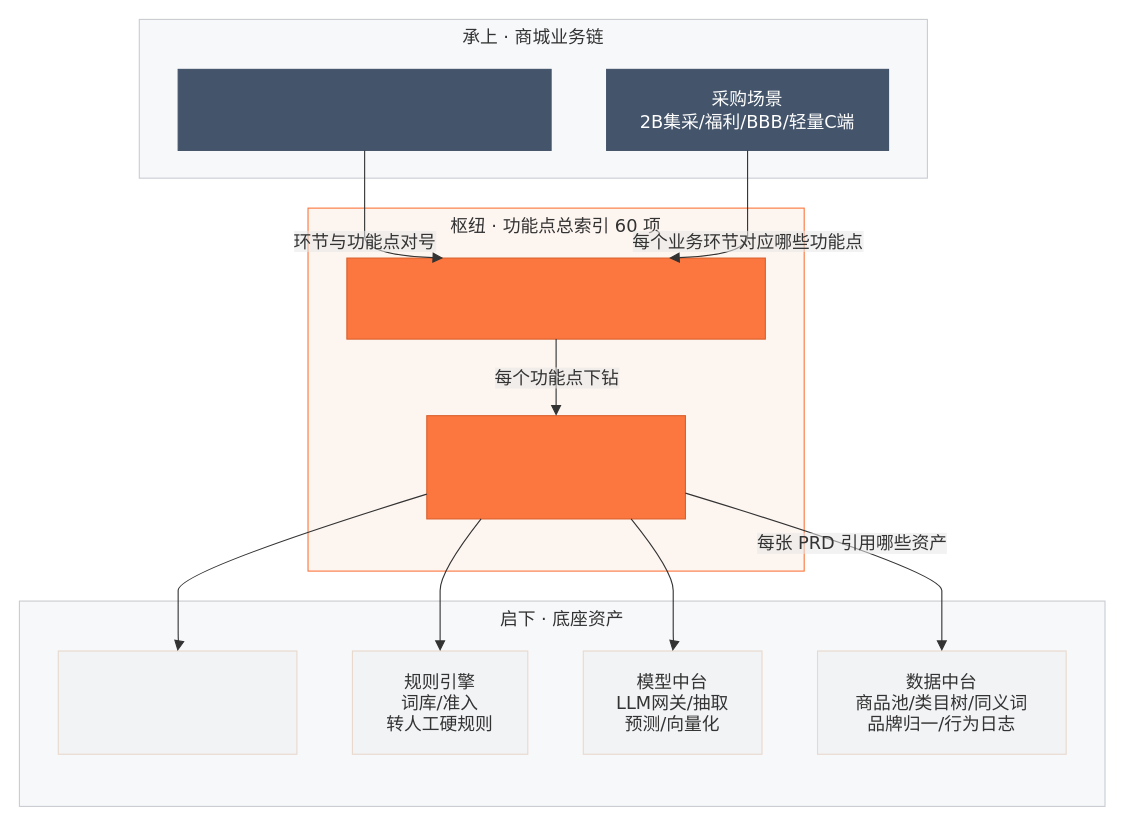
This 1124x826 diagram has some shape labels left out. Here are the shapes that lost their labels. From the top down, the centre of each, then its label:
At point (364, 109): "业务环节 推品→治理→发现→交易→服务→回流".
At point (555, 298): "六列结构 编号|一句话定义|文档|节点段|状态|Owner".
At point (555, 467): "一句话定义 ← 业务价值 PRD 链接 ← 需求与验收 节点段 ← 里程碑节奏".
At point (177, 702): "评测平台 标准测试集/指标基线 评测回归".
